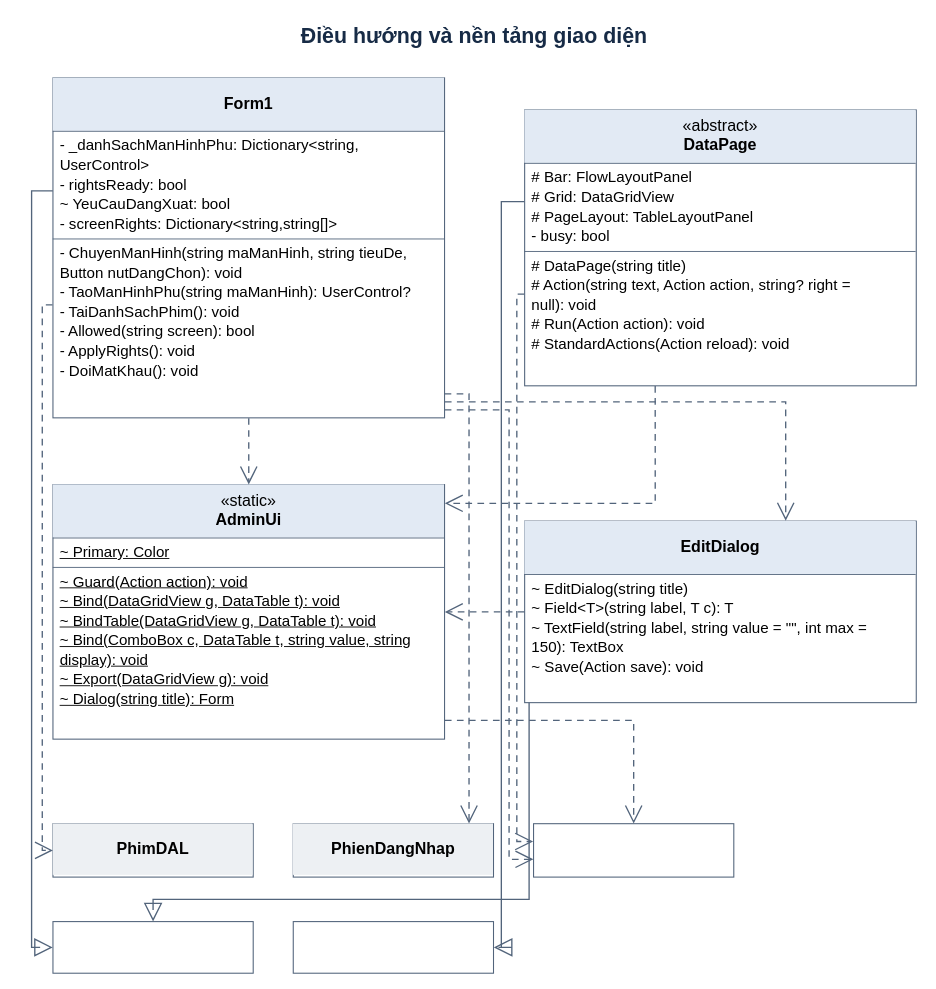
The diagram is 936 pixels wide and 989 high, and some of its shapes have lost their labels. Each missing label, with the centre of its shape:
Db: the point at 633,850
«framework» Form: the point at 152,947
«framework» UserControl: the point at 393,947
